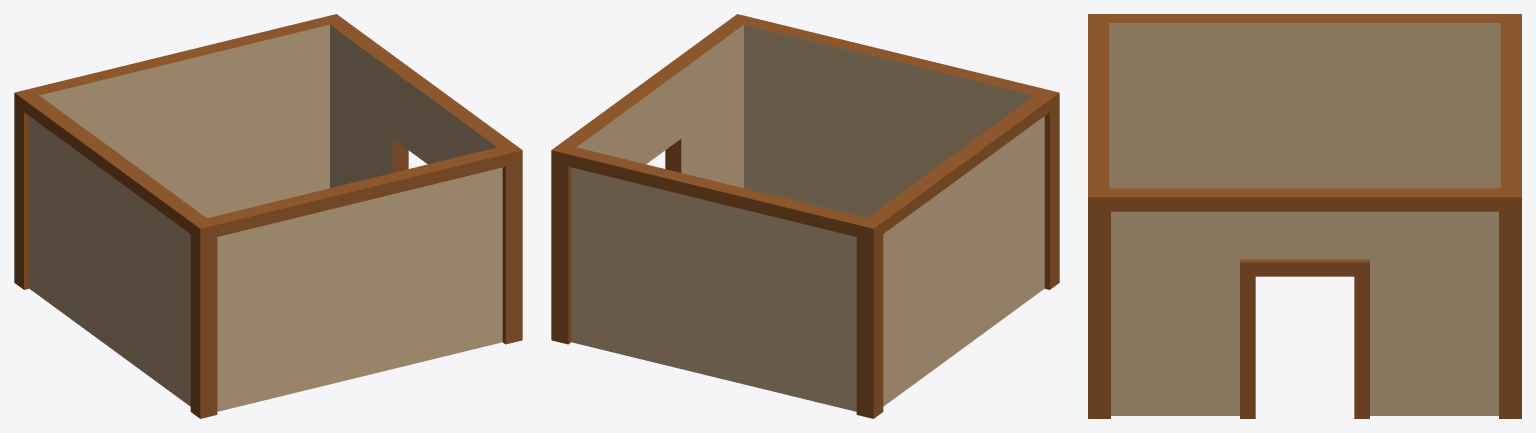
Rendered from Buildings_Wooden_Walls_01.fbx.
3 views of the same model, side by side, from view 1: azimuth 30°, elevation 25°; view 2: azimuth 150°, elevation 25°; view 3: azimuth 270°, elevation 25° (orthographic). The views are drawn at different scales.
Parts seen in each view (by area): view 1: Model; view 2: Model; view 3: Model.
Boxes of the visible parts, left/top/right/bottom form: Model: left=14, top=14, right=522, bottom=418; Model: left=551, top=14, right=1059, bottom=418; Model: left=1088, top=14, right=1521, bottom=418.
Bounding box in the file's own units: 1120 × 631 × 1120.
